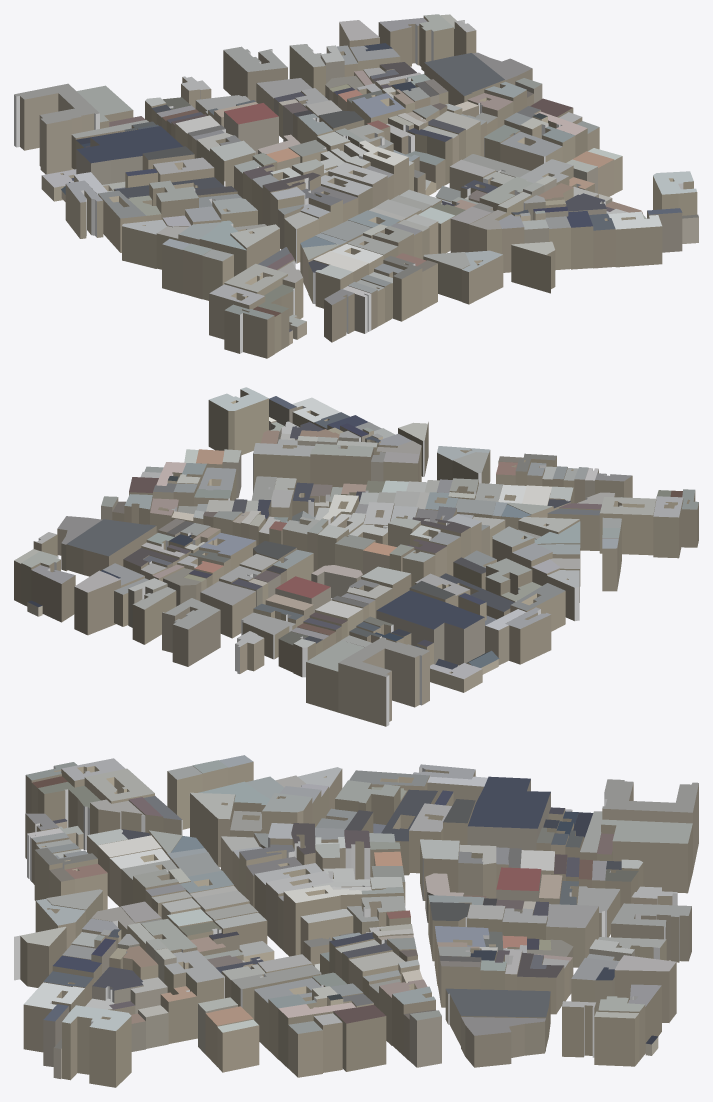
3 views of the same model, one above another, from view 1: azimuth 30°, elevation 25°; view 2: azimuth 150°, elevation 25°; view 3: azimuth 270°, elevation 25° (orthographic). The views are drawn at different scales.
Parts seen in each view (by area): view 1: tuile; view 2: tuile; view 3: tuile.
Boxes of the visible parts, x1=… form: tuile: x1=14, y1=14, x2=698, y2=358; tuile: x1=14, y1=387, x2=698, y2=726; tuile: x1=14, y1=755, x2=698, y2=1087.
Bounding box in the file's own units: 270 × 32.46 × 280.
